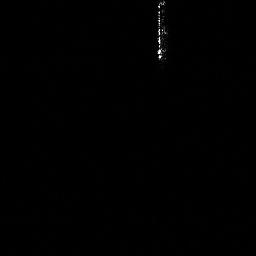ship: (153, 1, 170, 66)
